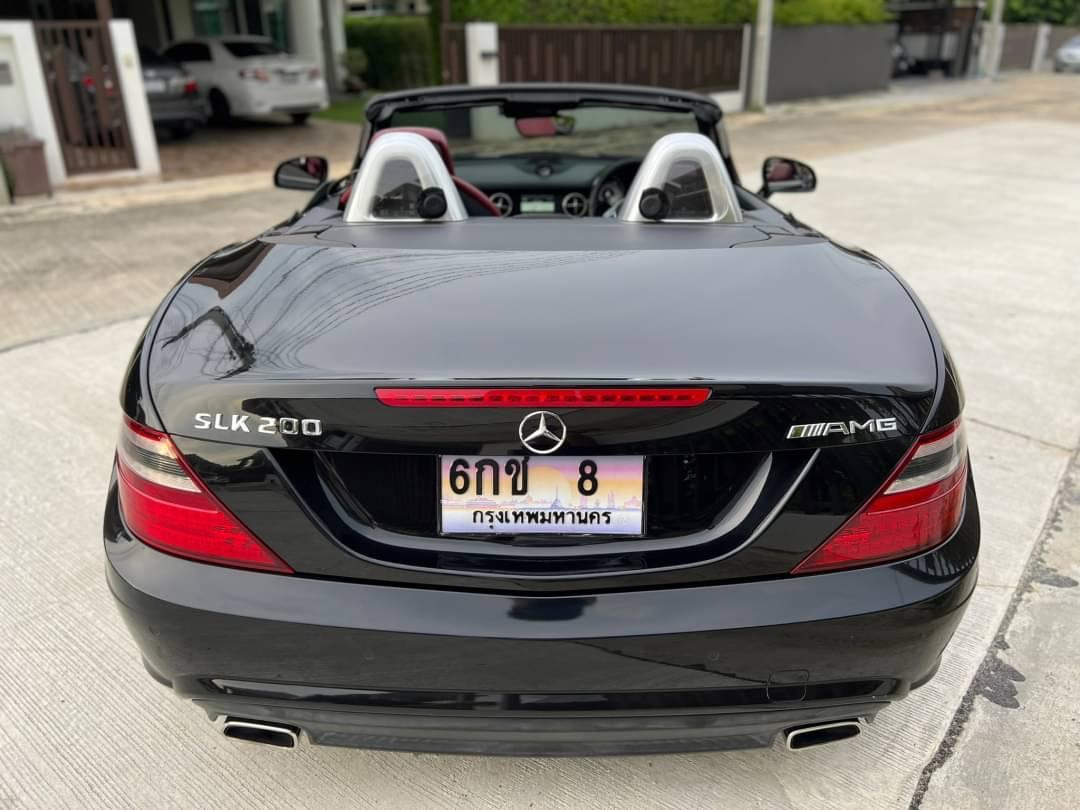license-plate: (426, 443, 655, 549)
